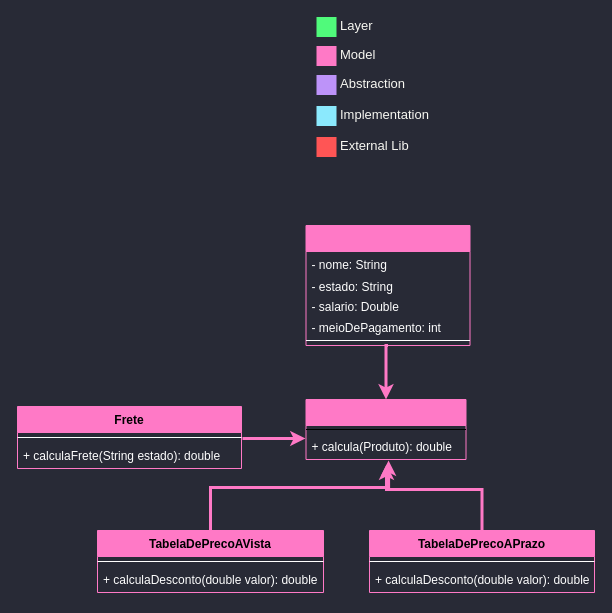
The diagram is 612 pixels wide and 613 high, and some of its shapes have lost their labels. Here are the shapes that lost their labels. From the top down, the box of each, then its label:
(305, 224, 470, 346): Produto
(305, 398, 466, 460): CalculadoraDePrecos
